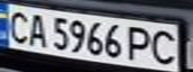5: (48, 15, 69, 52)
6: (103, 20, 127, 60), (84, 19, 109, 57)
9: (66, 17, 87, 55)
A: (24, 11, 51, 47)
C: (148, 27, 181, 66), (3, 7, 33, 44)
P: (124, 24, 157, 62)
